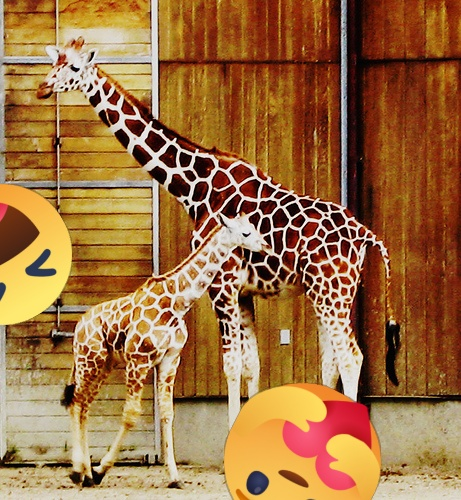care: (224, 383, 381, 500)
haha: (0, 184, 72, 325)
